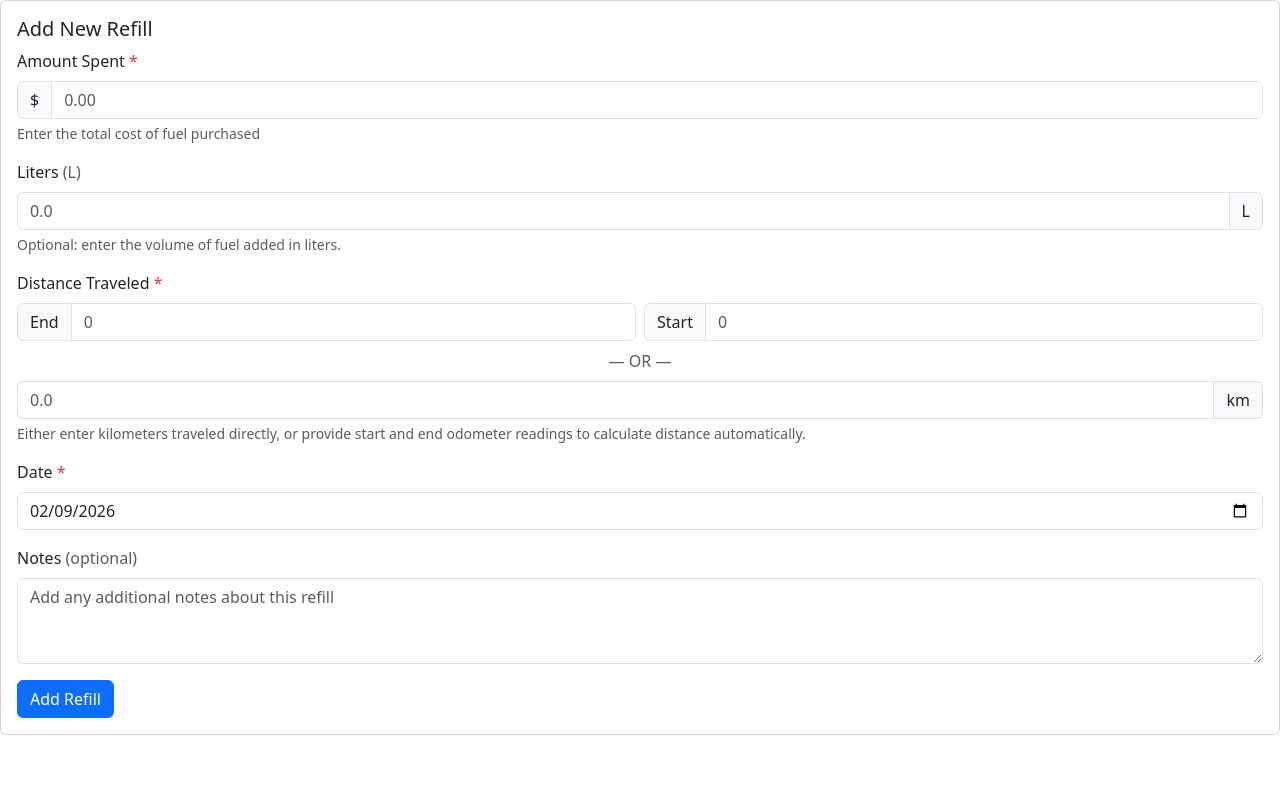
Test: RefillForm › Create Mode › displays validation errors for empty required fields
This screenshot has width=1280, height=800.
Fill in date to bypass HTML5 validation, but leave amount and distance empty
In the date field labelled "Date *": (640, 511) top-left (17, 492), bottom-right (1263, 530), type "2024-01-15"
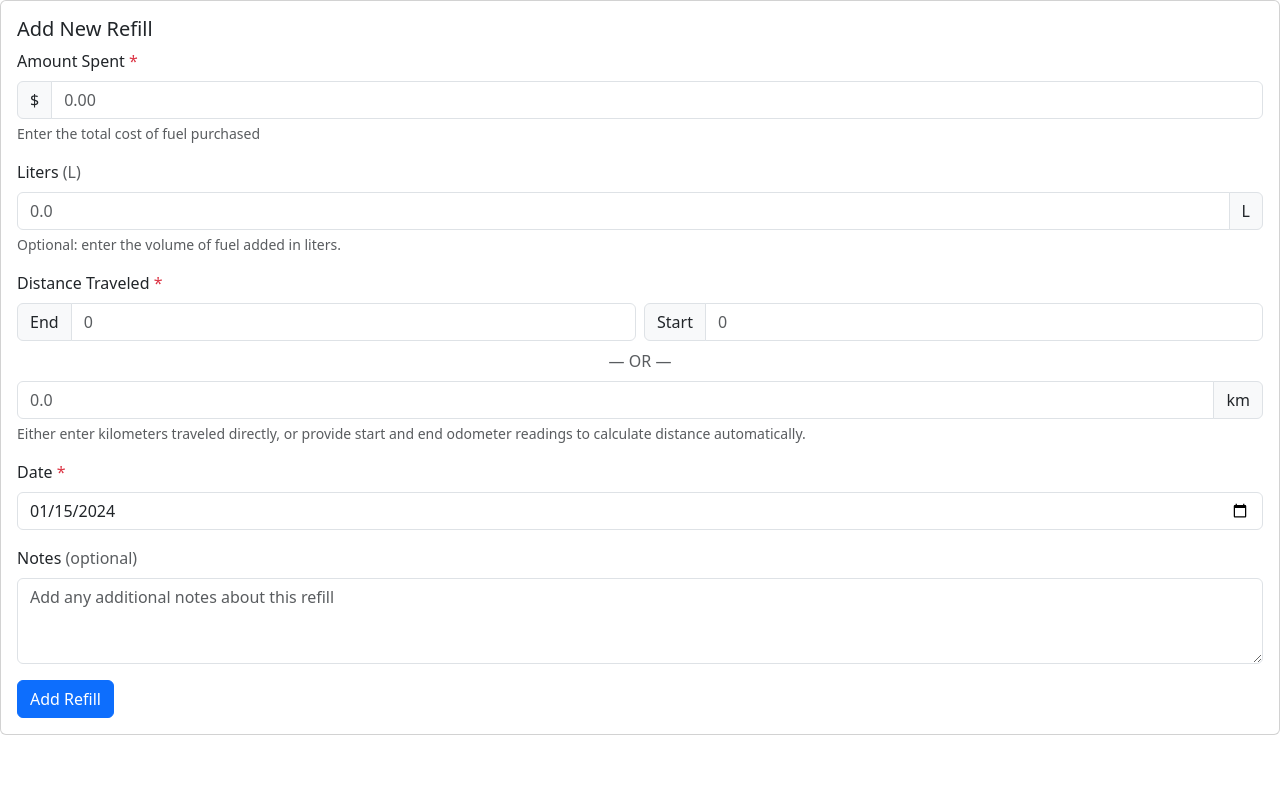
Click the button "Add Refill": (65, 699) top-left (17, 680), bottom-right (114, 718)
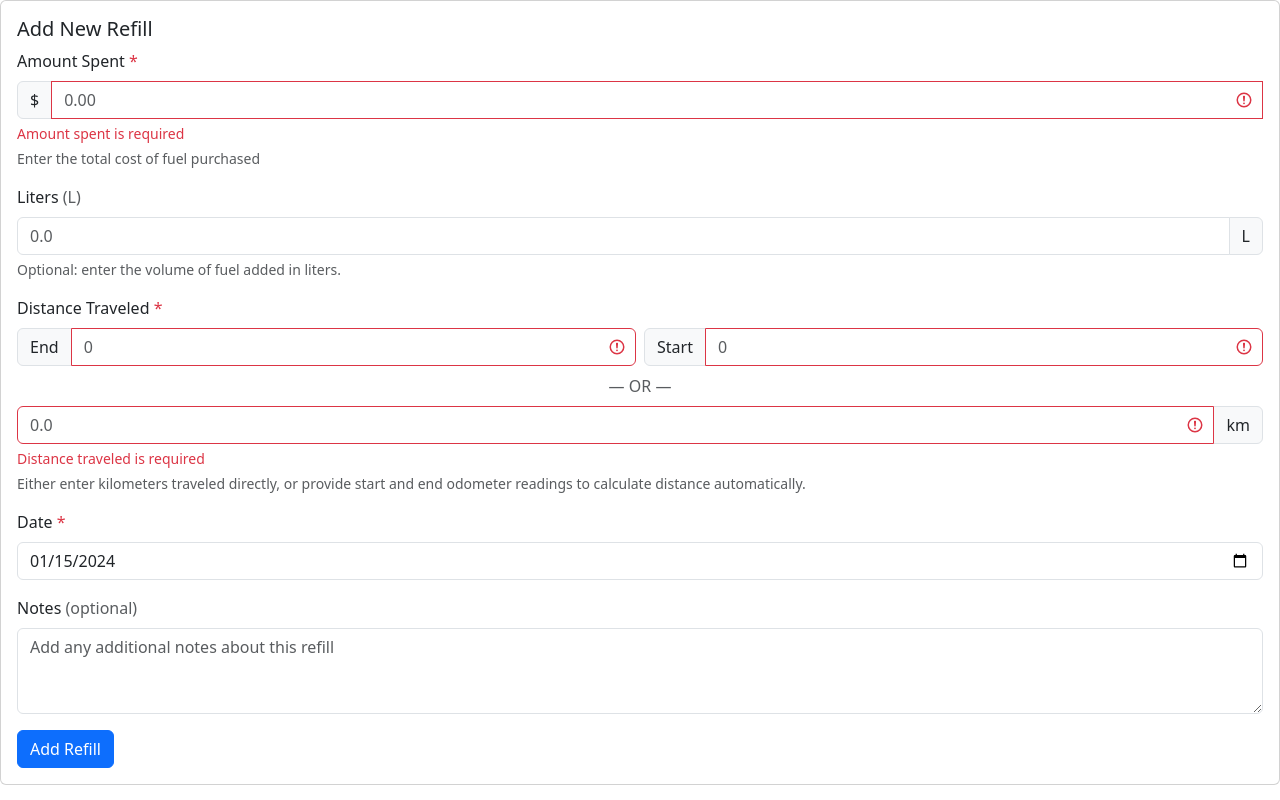
Expected: the text "Amount spent is required" is shown, top-left (17, 124), bottom-right (184, 143)
Expected: the text "Distance traveled is required" is shown, top-left (17, 449), bottom-right (205, 468)
